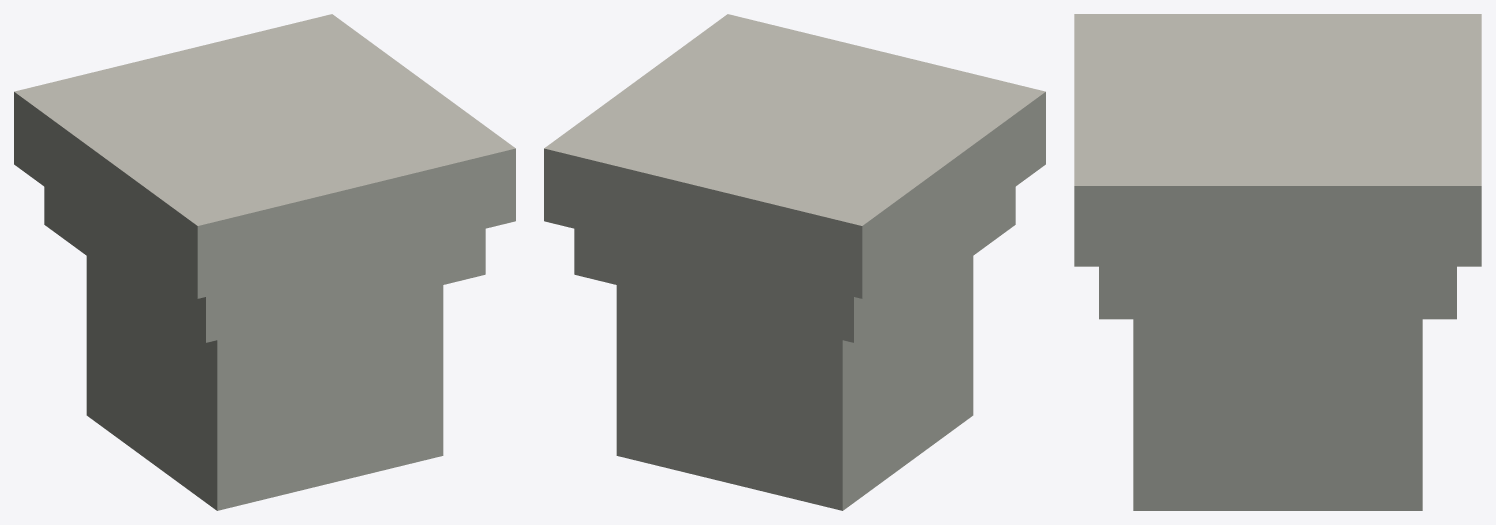
Rendered from bridge_pillar1.fbx.
3 views of the same model, side by side, from view 1: azimuth 30°, elevation 25°; view 2: azimuth 150°, elevation 25°; view 3: azimuth 270°, elevation 25° (orthographic). The views are drawn at different scales.
Parts seen in each view (by area): view 1: bridge_pillar1; view 2: bridge_pillar1; view 3: bridge_pillar1.
Part boxes in pixels (box(x1,y1,x2,y2)): bridge_pillar1: box(14, 14, 515, 510); bridge_pillar1: box(544, 14, 1045, 510); bridge_pillar1: box(1074, 14, 1481, 510).
Bounding box in the file's own units: 5.56 × 5.56 × 5.27.
